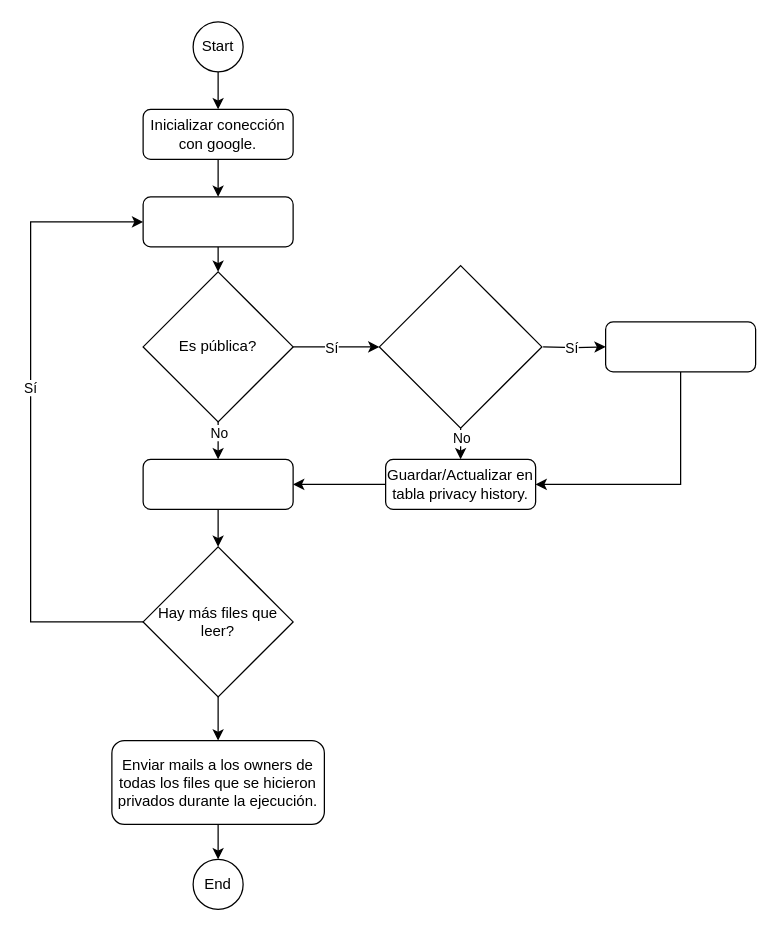
This 778x931 diagram has some shape labels left out. The shapes that lost their labels are listed below. From the top down, each one's centre as x and y in pixels, then its label:
At point (217, 221): "Obtener file".
At point (460, 346): "El usuario es ownwer o editor?".
At point (680, 346): "Hacer privada".
At point (217, 483): "Guardar/Actuali zar en Tabla Files.".
